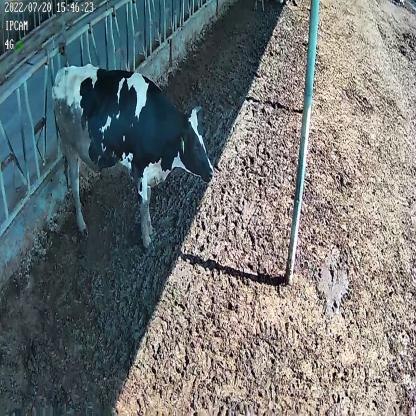cow: (53, 61, 215, 249)
